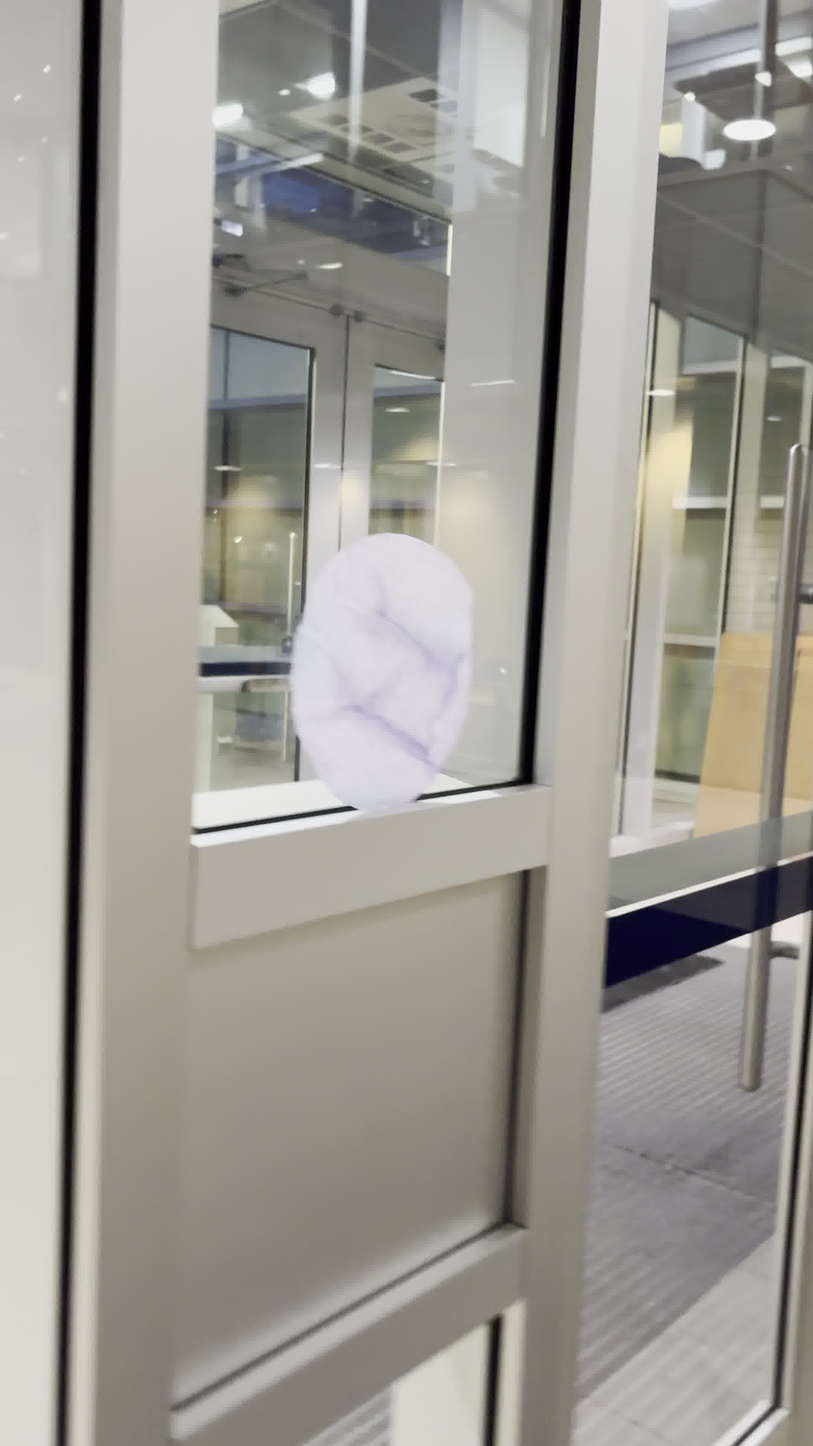Target: (289, 531, 473, 816)
